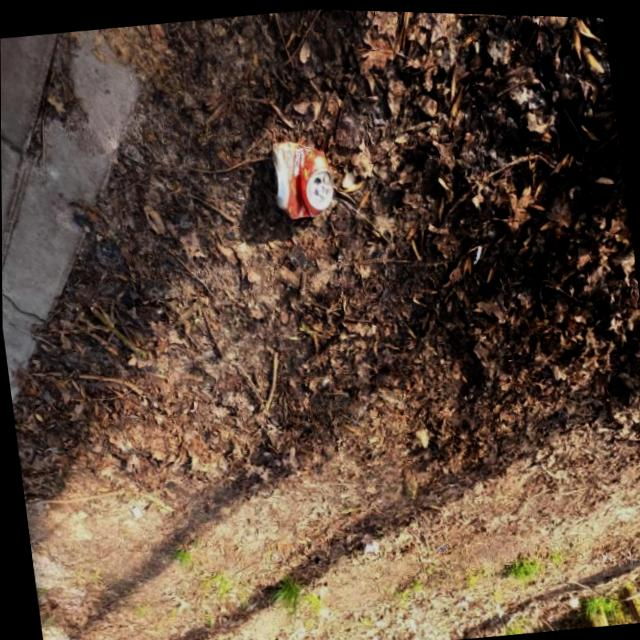Can-Metal: (264, 130, 339, 222)
